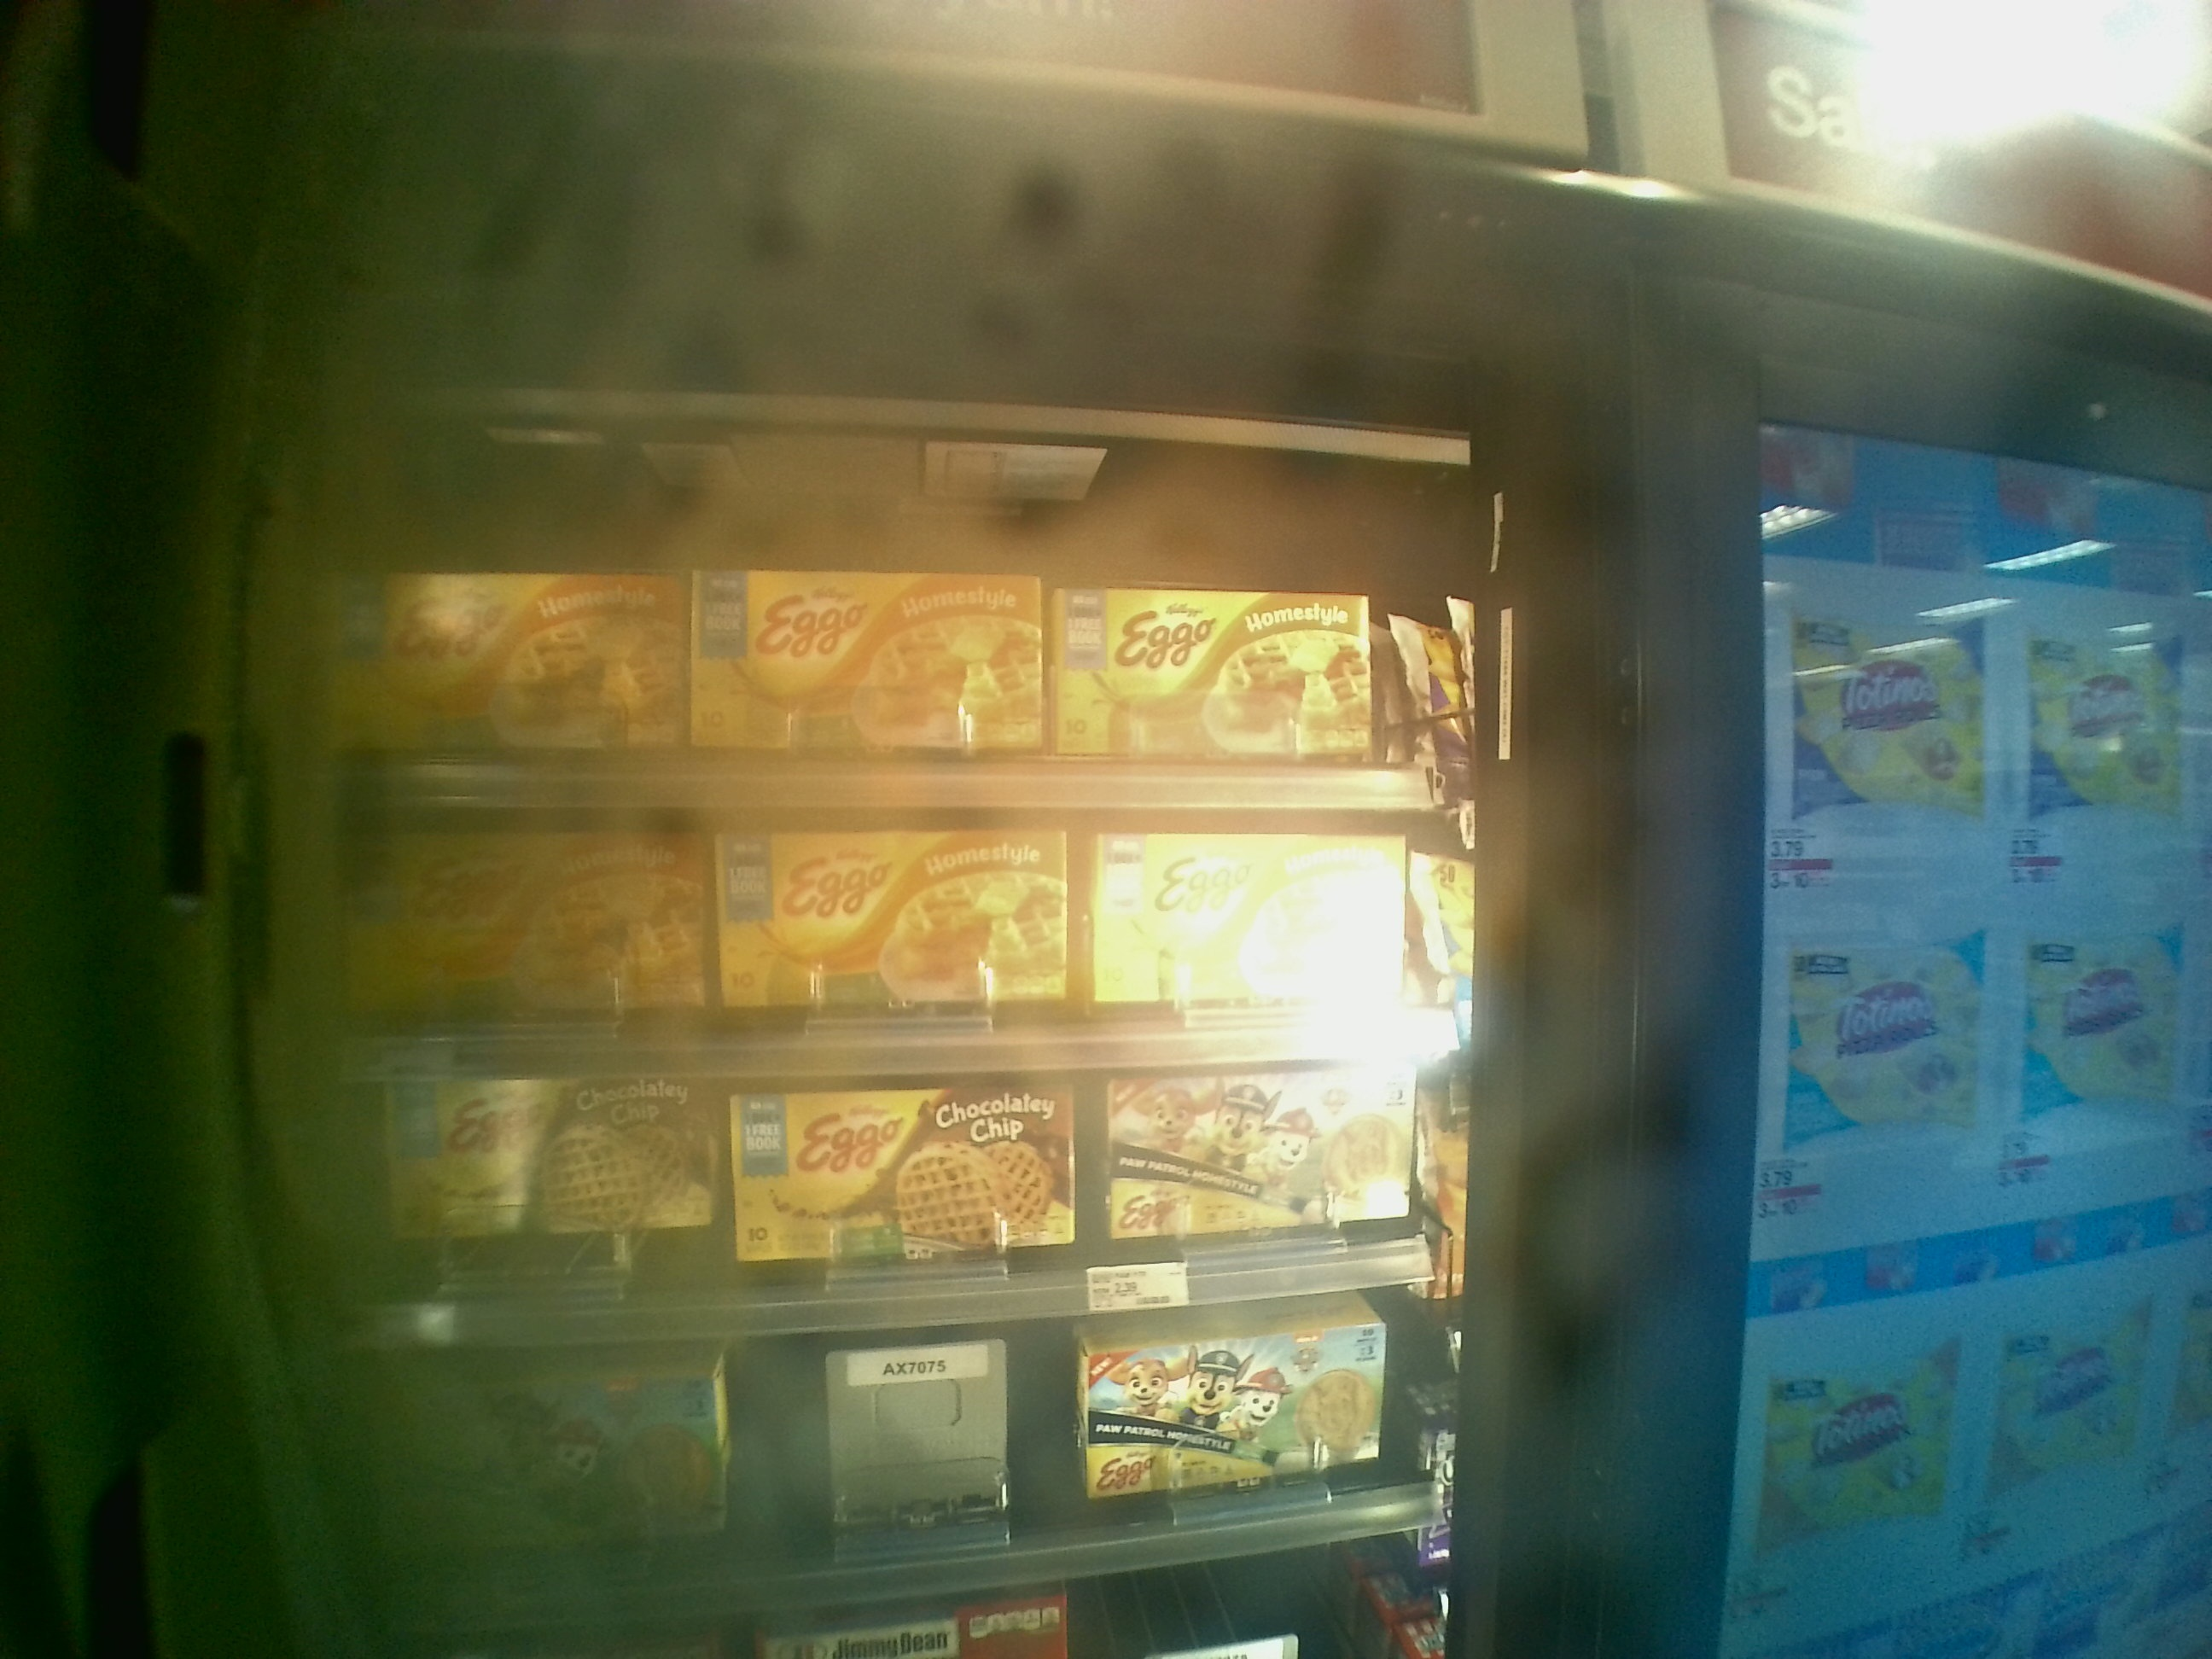shelf: (310, 476, 1470, 814), (307, 1082, 1475, 1354), (307, 814, 1451, 1073)
